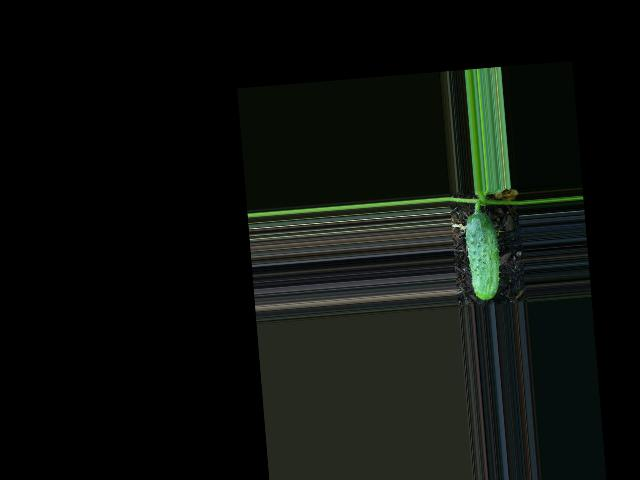cucumber: (463, 211, 502, 302)
